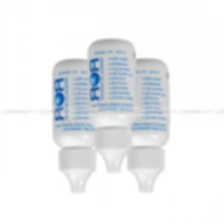cleaning_solution: (113, 57, 172, 197), (83, 34, 140, 177), (50, 56, 103, 197)
